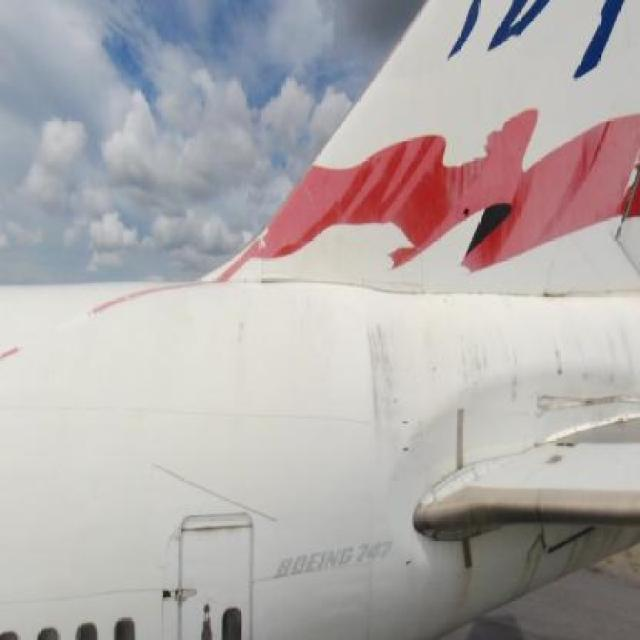Rust: (356, 301, 430, 473), (532, 292, 640, 394), (435, 295, 528, 408), (514, 522, 634, 598), (430, 528, 496, 618), (228, 294, 264, 360), (173, 519, 261, 543)
